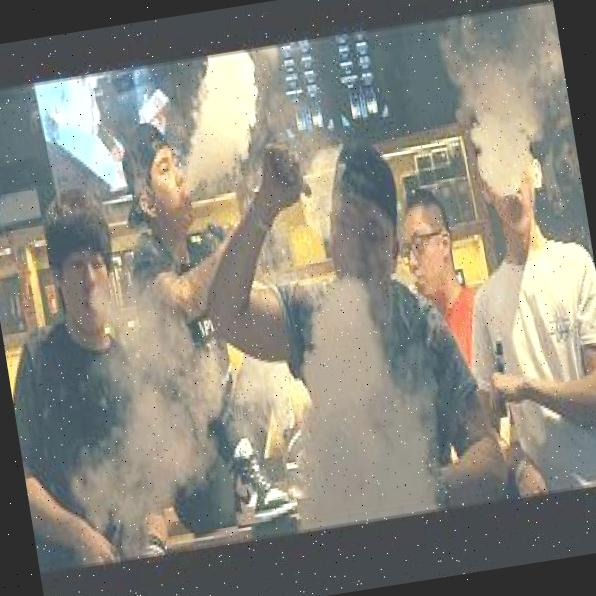smoke: (276, 260, 443, 525), (78, 276, 238, 499), (445, 12, 570, 193), (167, 49, 272, 184)
